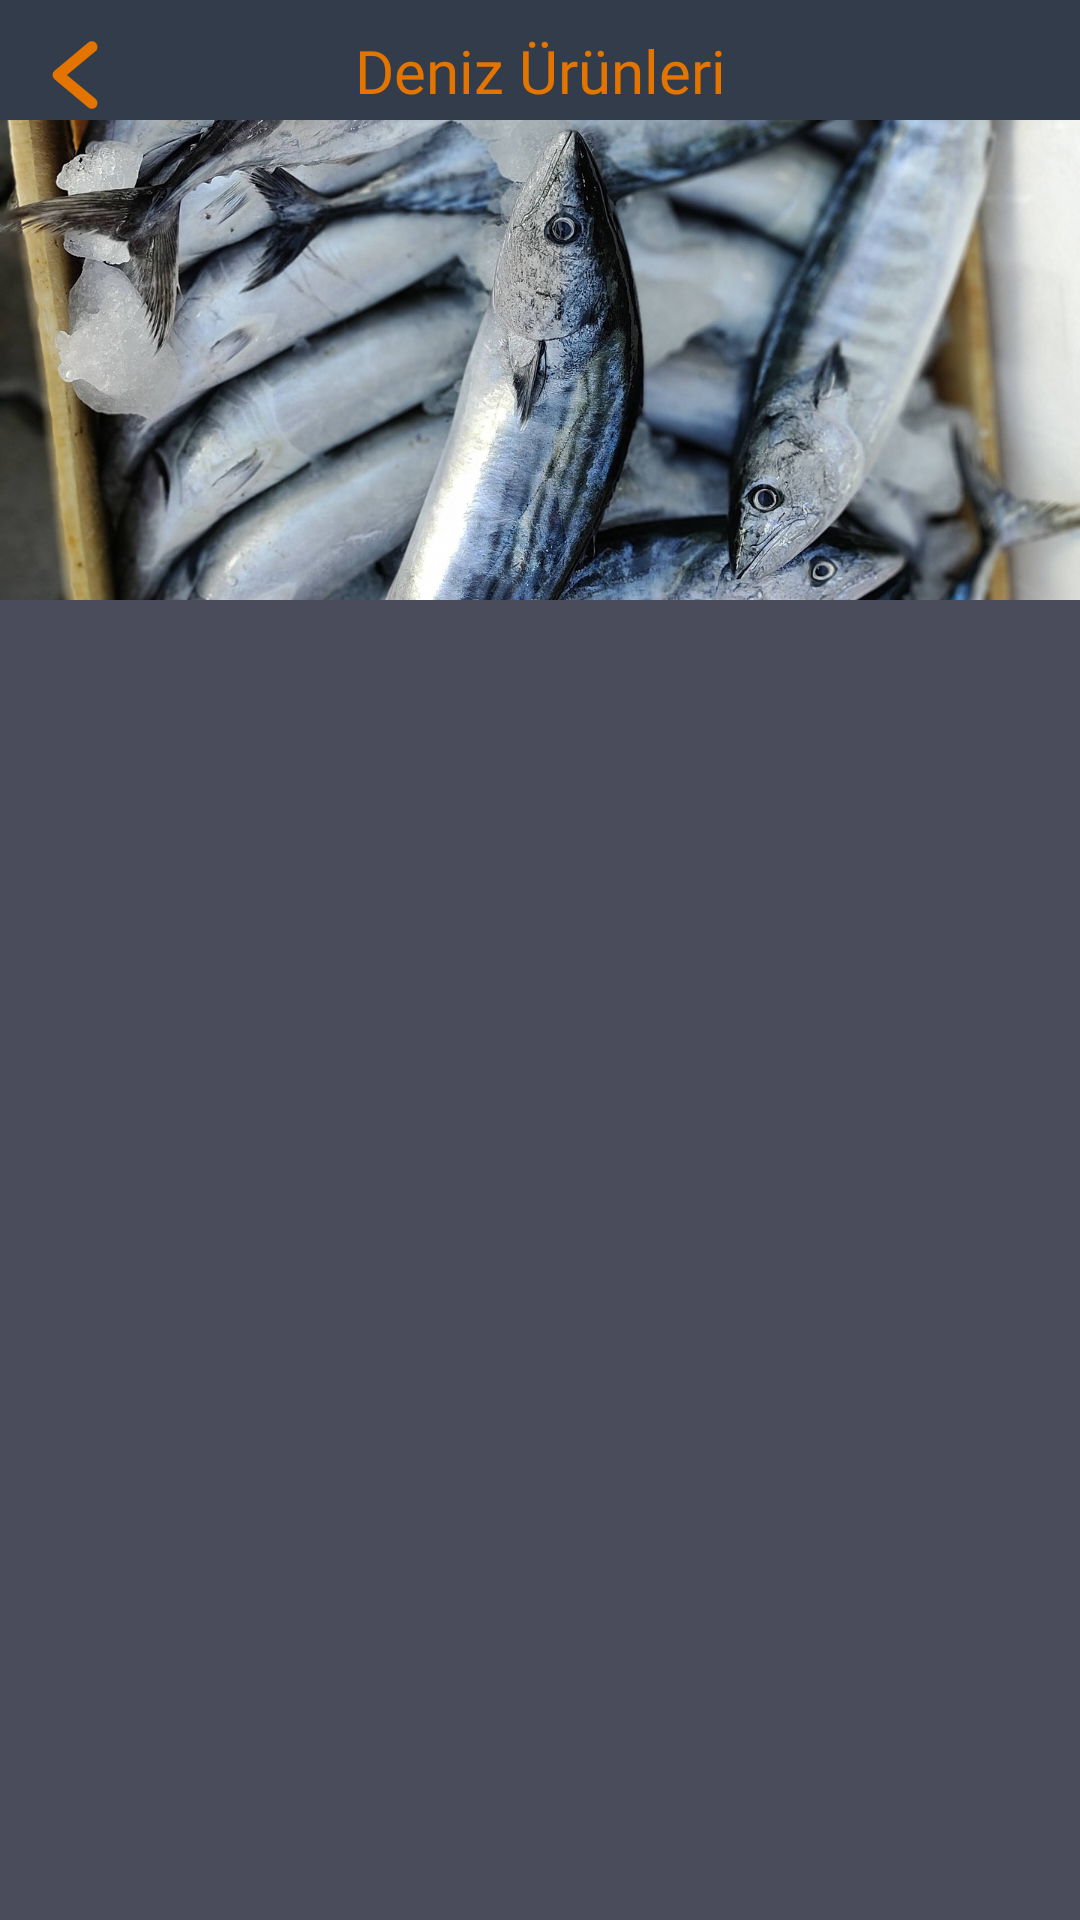

Icon bounding boxes for this 1080*1920 phone screenshot, format {"left": x1, "top": y1, "right": x2, "bottom": y2}:
back arrow: {"left": 52, "top": 41, "right": 98, "bottom": 109}
